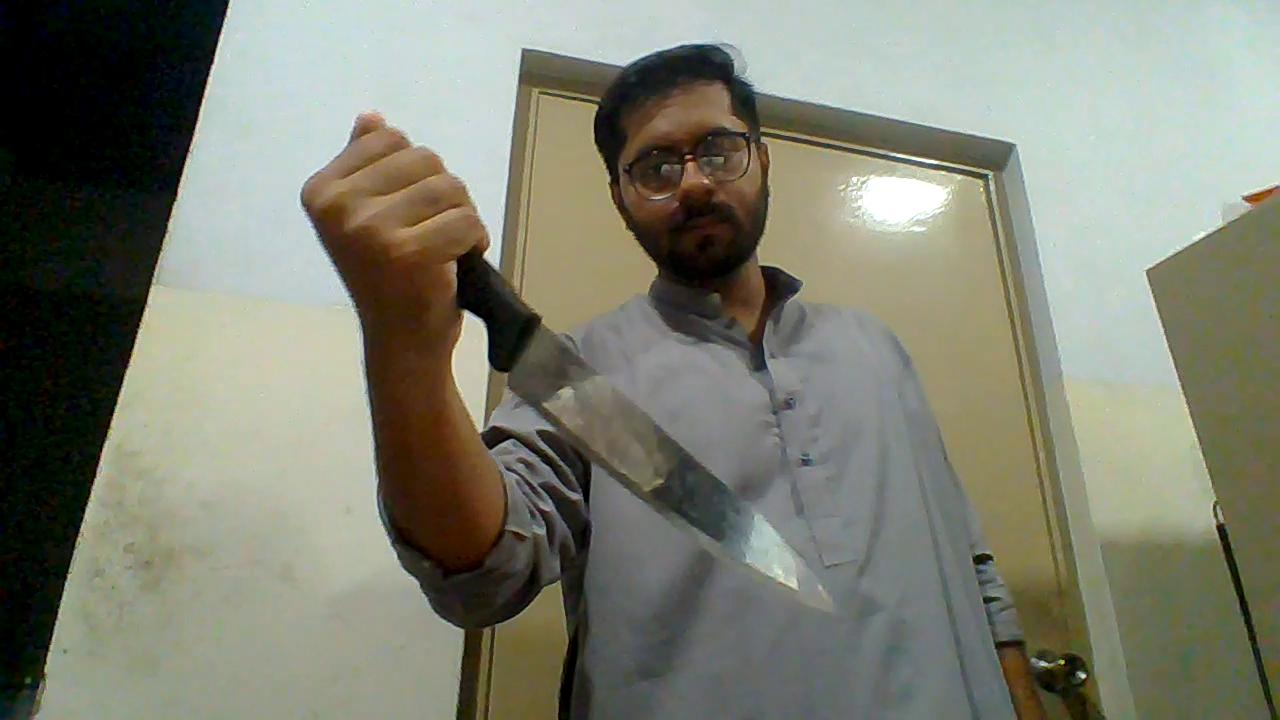criminal: (302, 42, 1050, 720)
weapon: (454, 250, 837, 619)
